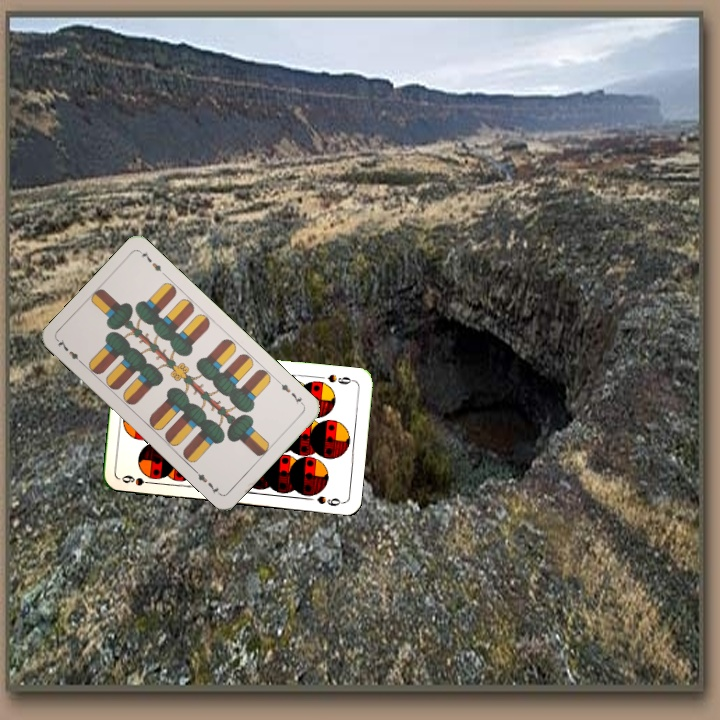E7: (53, 335, 86, 368), (274, 376, 307, 408)
S9: (118, 470, 158, 488), (324, 370, 357, 387)
